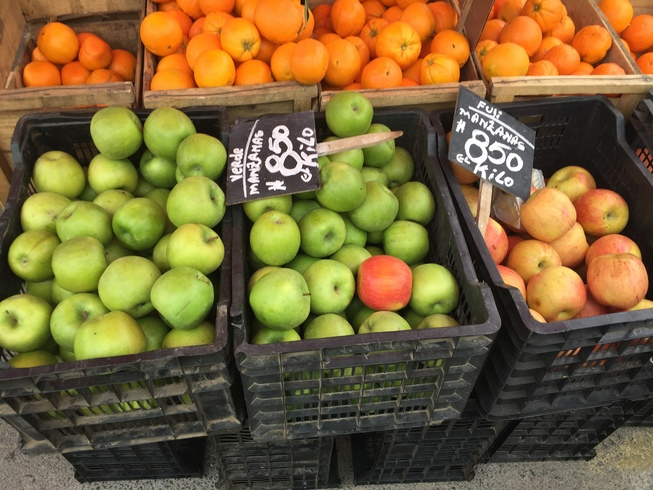precio: (446, 83, 540, 203), (220, 105, 326, 211)
